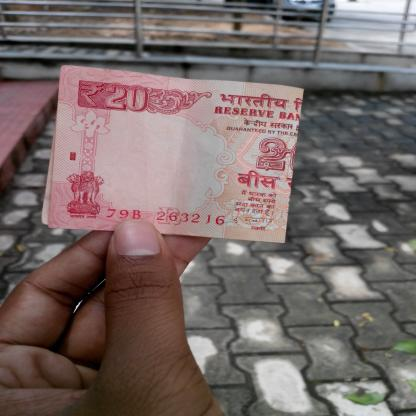Old20Front: (62, 77, 302, 237)
